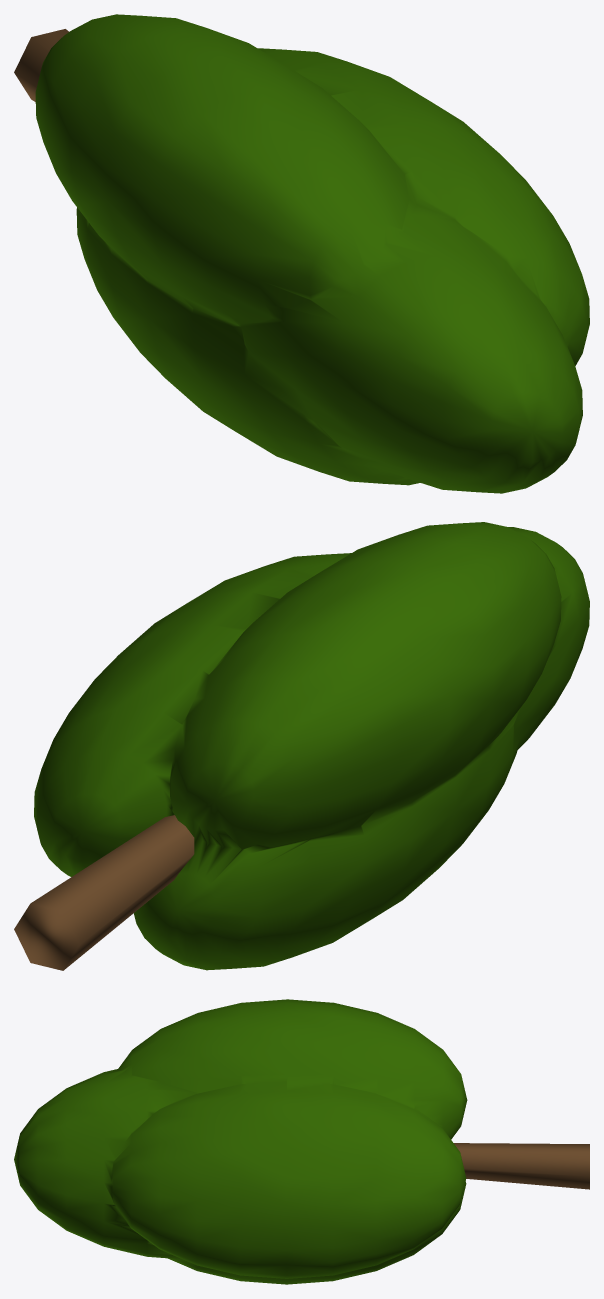
Rendered from tree_3.dae.
The picture shows the model from 3 angles, top to bottom: view 1: azimuth 30°, elevation 25°; view 2: azimuth 150°, elevation 25°; view 3: azimuth 270°, elevation 25°; orthographic projection. The views are drawn at different scales.
Visible parts, largest first — view 1: coords_ME_ID3_MA_Color_F16, coords_ME_ID11_MA_Color_C18; view 2: coords_ME_ID3_MA_Color_F16, coords_ME_ID11_MA_Color_C18; view 3: coords_ME_ID3_MA_Color_F16, coords_ME_ID11_MA_Color_C18.
Boxes of the visible parts, <box> form: coords_ME_ID3_MA_Color_F16: <box>35,14,589,493</box>; coords_ME_ID11_MA_Color_C18: <box>14,29,68,101</box>; coords_ME_ID3_MA_Color_F16: <box>34,522,589,970</box>; coords_ME_ID11_MA_Color_C18: <box>14,815,194,970</box>; coords_ME_ID3_MA_Color_F16: <box>14,999,467,1284</box>; coords_ME_ID11_MA_Color_C18: <box>454,1143,589,1189</box>.
Size of the model in its own units: 63.72 by 60.65 by 134.
